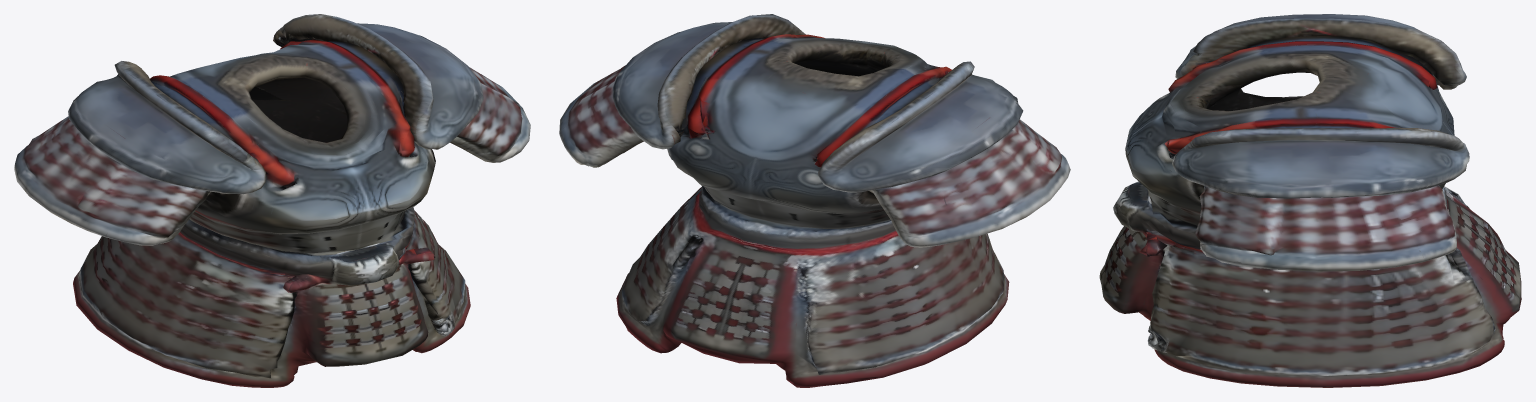
The model's file is guofengjia2.fbx.
The picture shows the model from 3 angles, left to right: view 1: azimuth 30°, elevation 25°; view 2: azimuth 150°, elevation 25°; view 3: azimuth 270°, elevation 25°; orthographic projection.
Visible parts, largest first — view 1: Mesh0; view 2: Mesh0; view 3: Mesh0.
Part boxes in pixels (x1,y1,x2,y2): Mesh0: (14, 14, 530, 387); Mesh0: (559, 14, 1070, 387); Mesh0: (1099, 14, 1521, 387).
Bounding box in the file's own units: 1.23 × 0.6199 × 0.9609.
